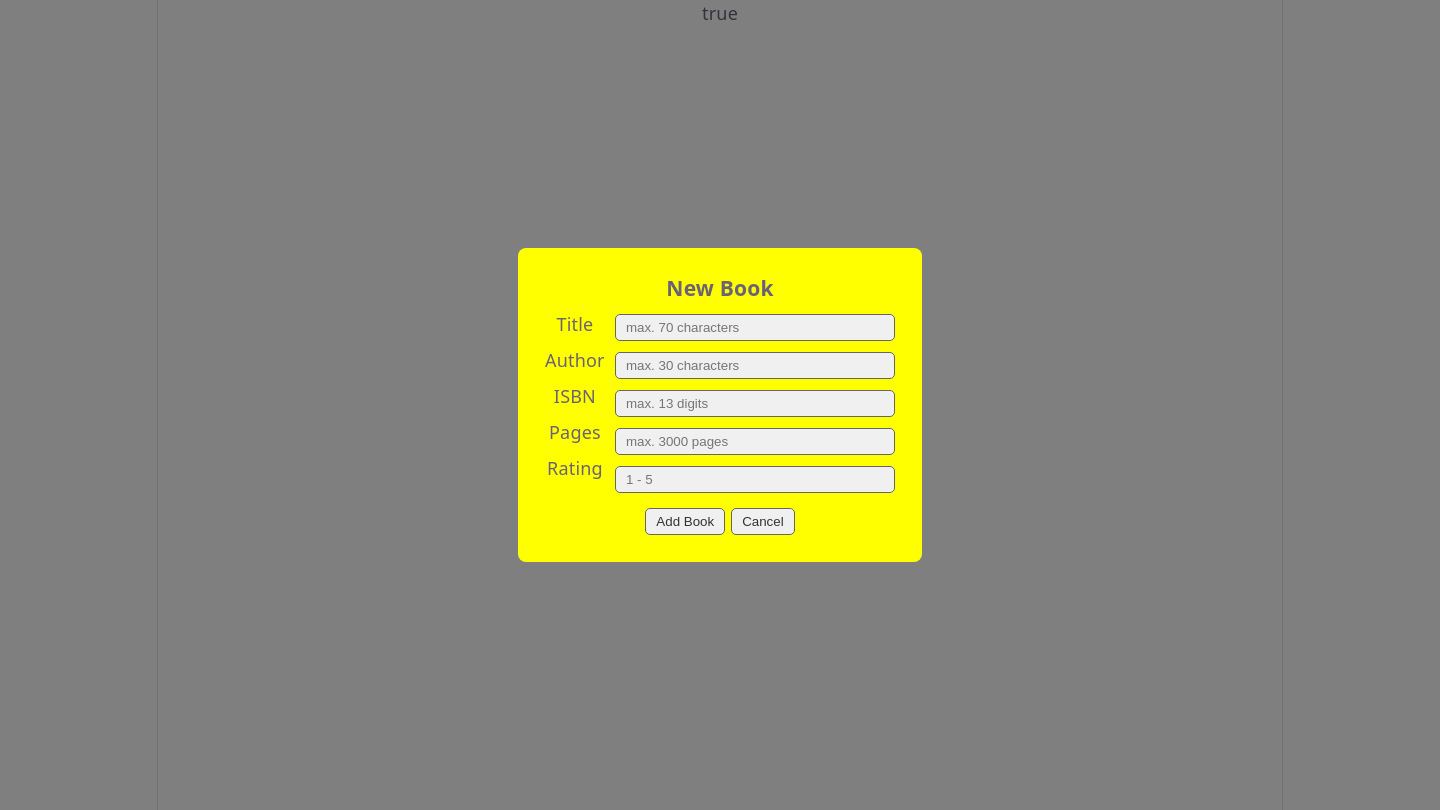
it: BookForm component › should change state to false when Cancel button is clicked
Click the button "Cancel" at coordinates (763, 522), box [731, 508, 795, 535]
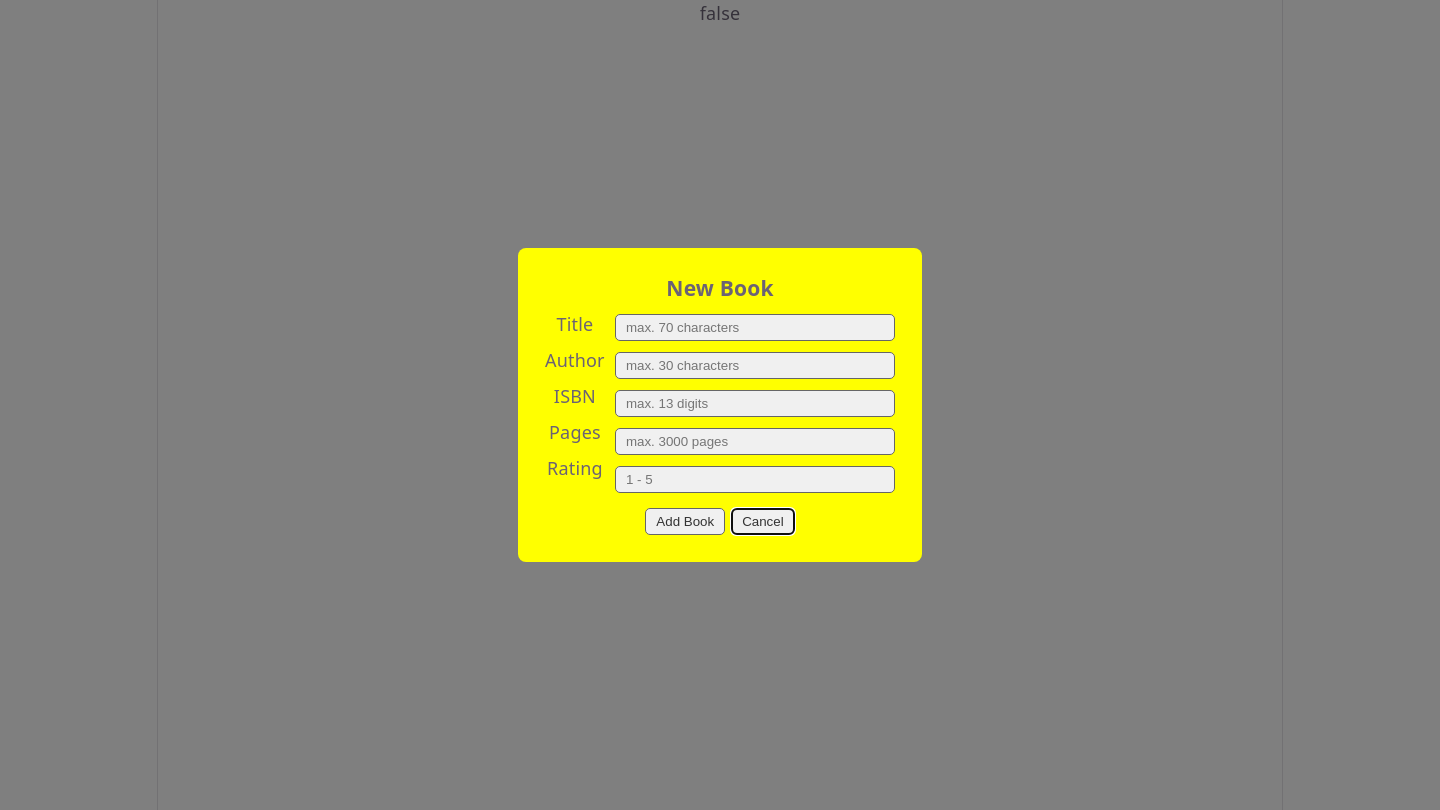
Expected: the text with test id "show-book-form" reads "false", [700, 1, 740, 25]
